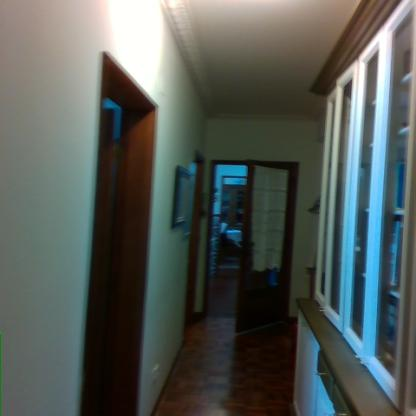semi: (202, 151, 300, 337)
